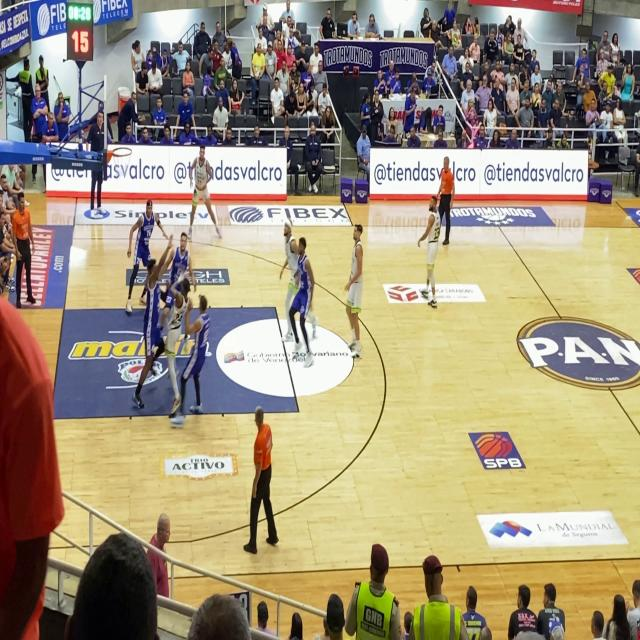referee: (243, 388, 284, 575), (3, 178, 42, 305), (434, 142, 461, 248)
team1: (338, 204, 369, 364), (181, 134, 224, 234), (415, 192, 449, 312), (167, 274, 190, 420), (274, 205, 302, 306)
team2: (182, 286, 222, 416), (138, 239, 166, 404), (122, 187, 156, 282), (292, 242, 318, 348), (170, 219, 192, 280)
ubasket: (110, 144, 133, 164)
